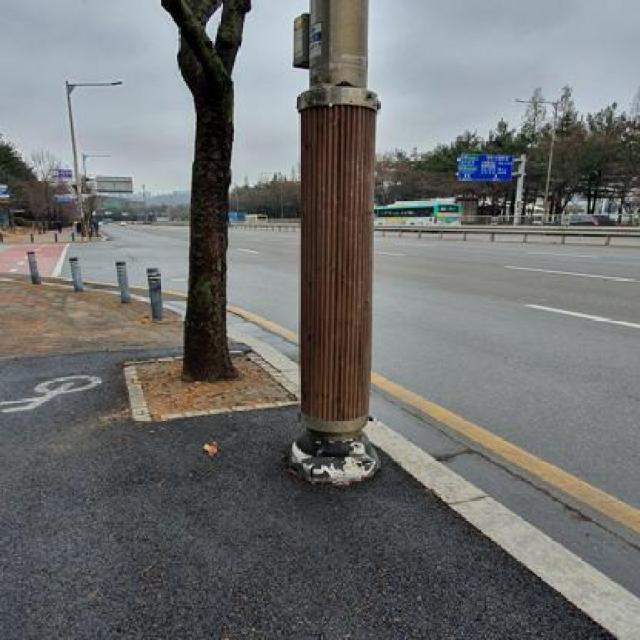pole: (282, 0, 391, 486)
